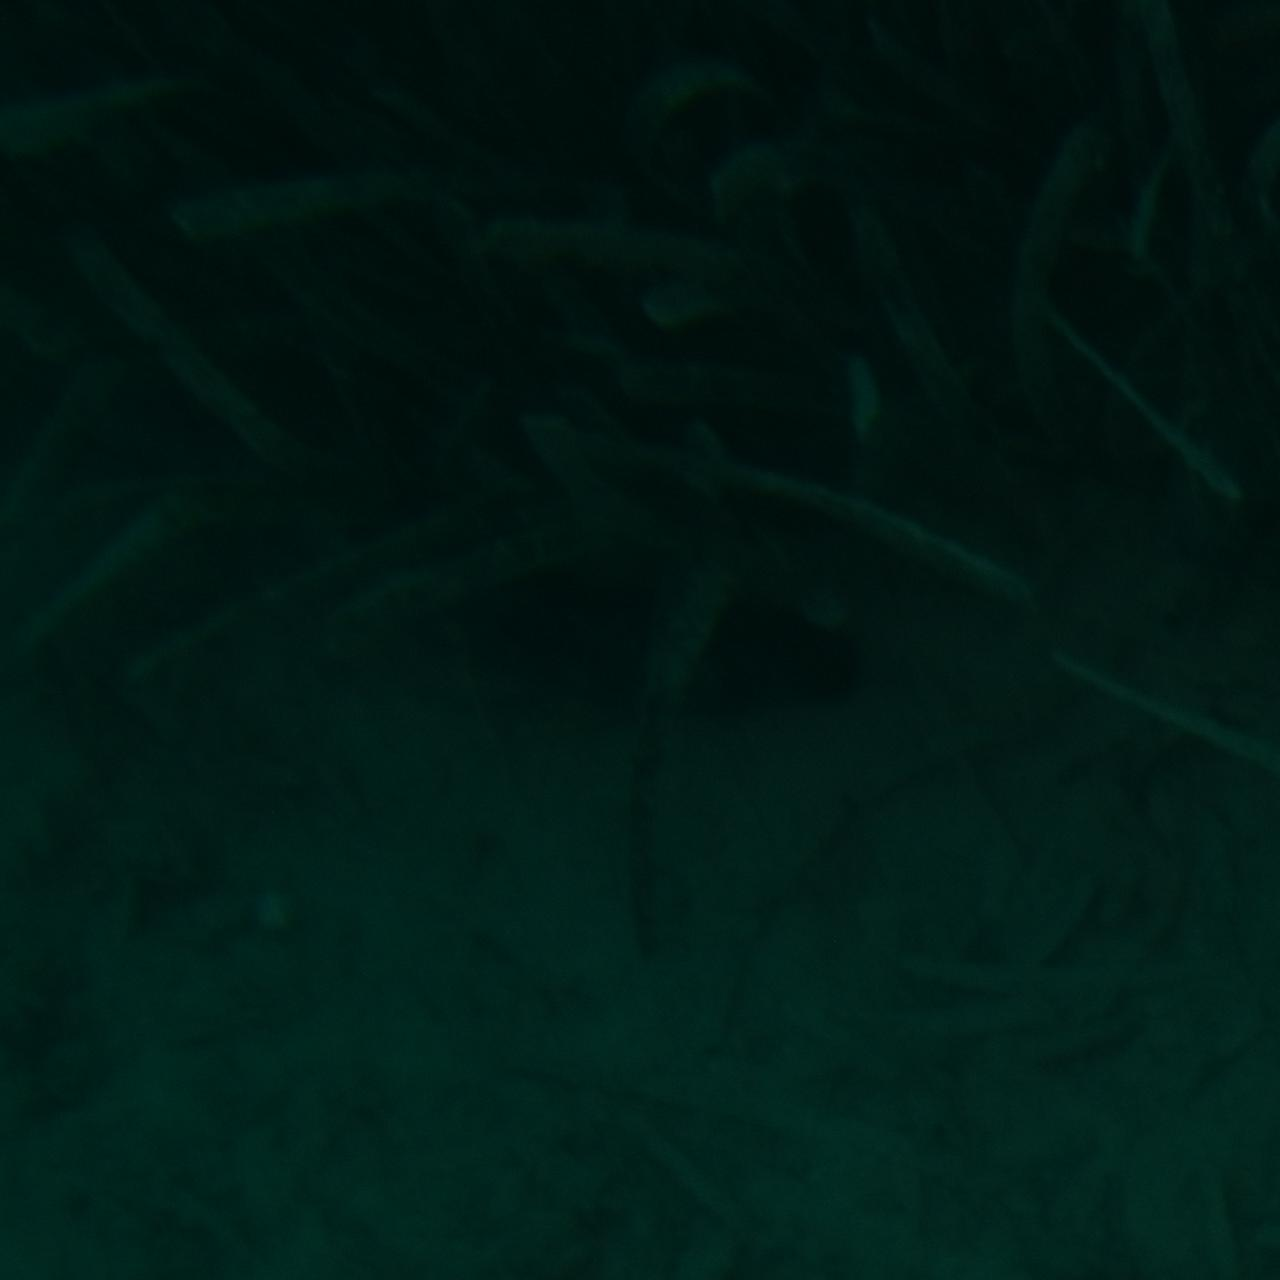Holothuria tubulosa: (408, 562, 872, 718)
